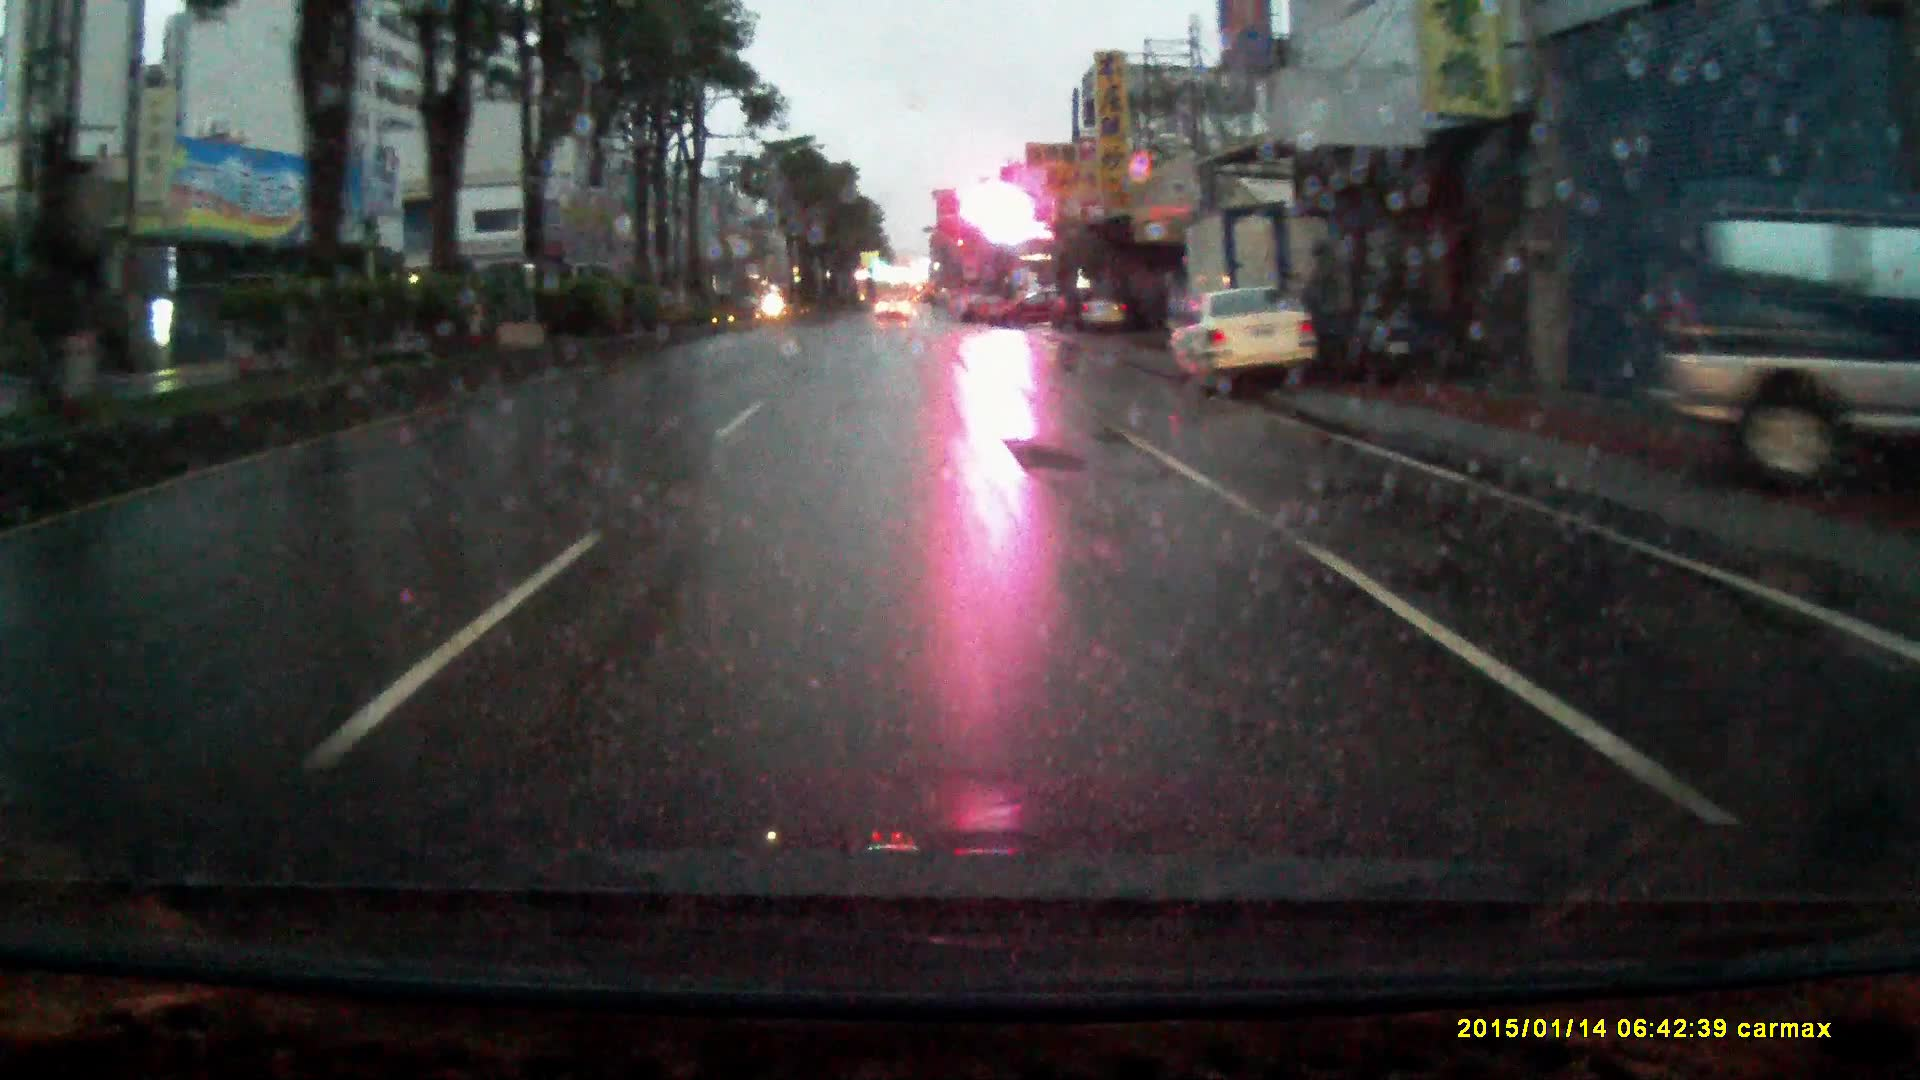vehicle: (1633, 179, 1920, 491), (1167, 206, 1352, 390), (1327, 219, 1489, 378), (1160, 282, 1324, 396), (985, 287, 1069, 331), (1071, 287, 1131, 336), (877, 298, 911, 328)
